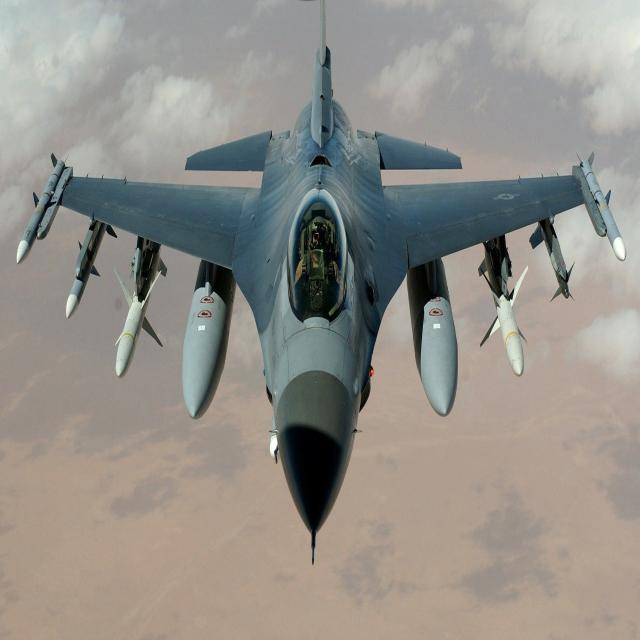F22: (9, 50, 639, 594)
